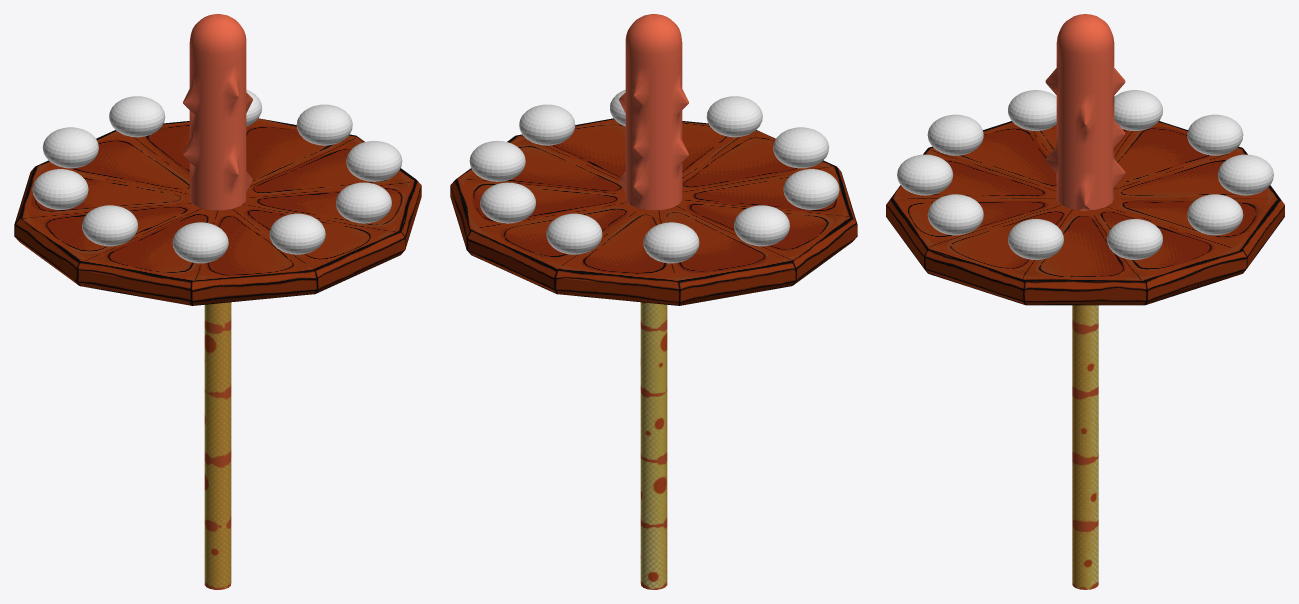
The model's file is Leaf_Platform_Red15_v0.fbx.
The picture shows the model from 3 angles, left to right: view 1: azimuth 30°, elevation 25°; view 2: azimuth 150°, elevation 25°; view 3: azimuth 270°, elevation 25°; orthographic projection.
Parts seen in each view (by area): view 1: Platform_Red15m, Floats15, LightTop.002, Pole.002; view 2: Platform_Red15m, Floats15, LightTop.002, Pole.002; view 3: Platform_Red15m, Floats15, LightTop.002, Pole.002.
Part boxes in pixels (x1,y1,x2,y2): Platform_Red15m: (14,118,421,305); Floats15: (32,89,402,263); LightTop.002: (183,14,252,210); Pole.002: (204,302,231,589); Platform_Red15m: (450,118,857,305); Floats15: (469,89,839,263); LightTop.002: (619,14,688,210); Pole.002: (640,302,667,589); Platform_Red15m: (886,121,1284,305); Floats15: (897,90,1273,259); LightTop.002: (1045,14,1125,210); Pole.002: (1072,305,1098,589).
Bounding box in the file's own units: 1500 × 1500 × 2354.
